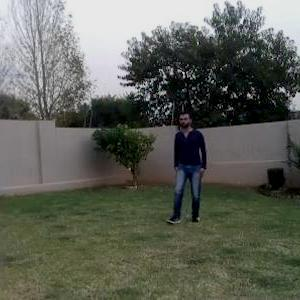follow: (168, 108, 209, 226)
